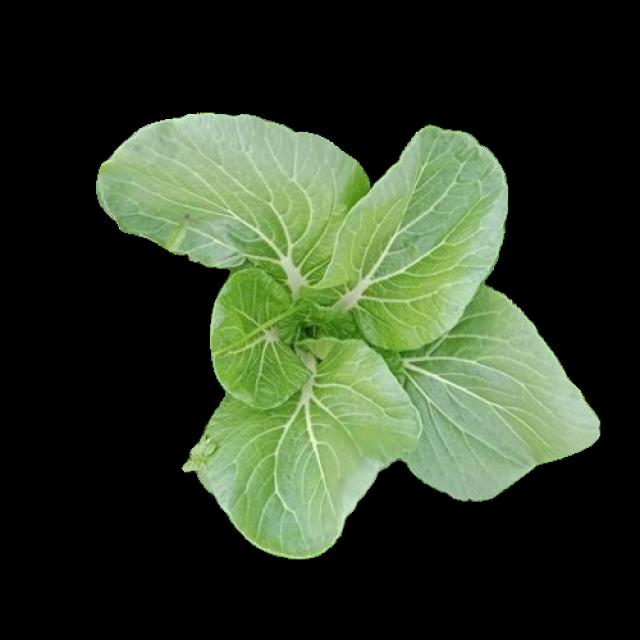healthy: (108, 126, 610, 560)
mature: (99, 112, 600, 546)
